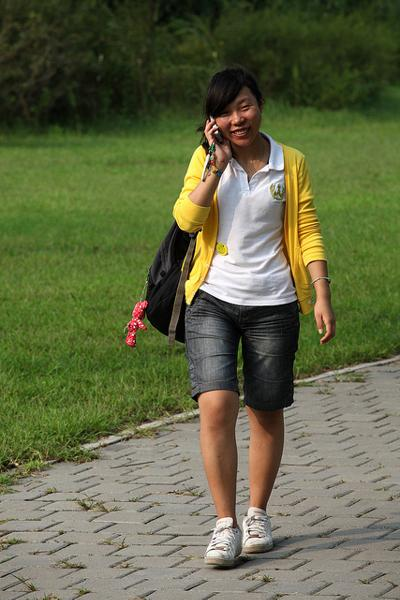person: (172, 67, 335, 566)
